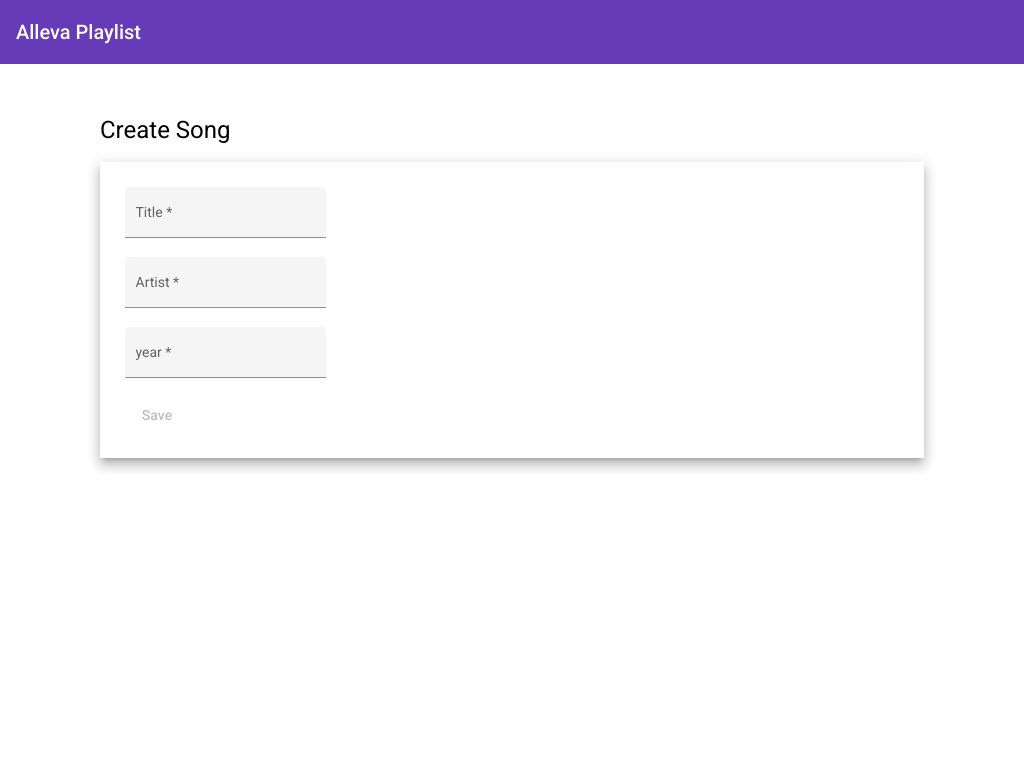
empty spec › Test > Songs Edit Form Create
Expected: the button with id "song-form-save-button" is shown, top-left (125, 397), bottom-right (189, 433)
Expected: the heading "Create Song" is shown, top-left (100, 116), bottom-right (230, 144)
Click the field with id "song-form-title-field" at (226,220), box top-left (136, 212), bottom-right (316, 228)
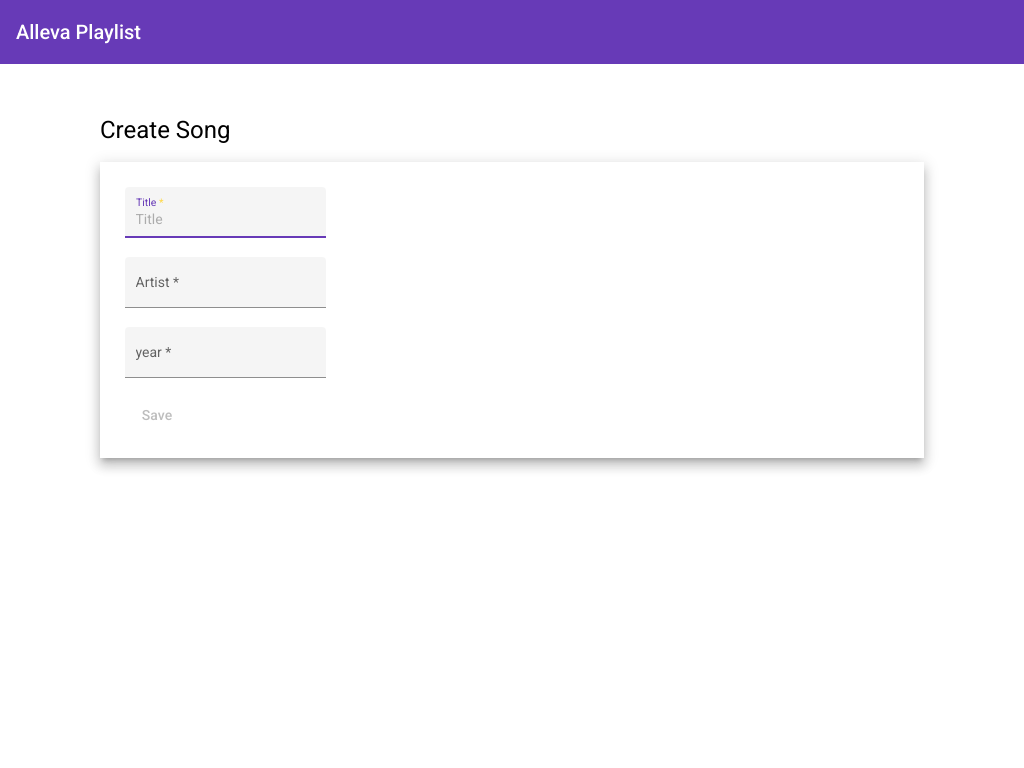
Expected: the button with id "song-form-save-button" is disabled, top-left (125, 397), bottom-right (189, 433)
Click the element showing "Alleva Playlist Create Song Title * Artist * year * Save" at (0,0), box top-left (0, 0), bottom-right (1023, 767)
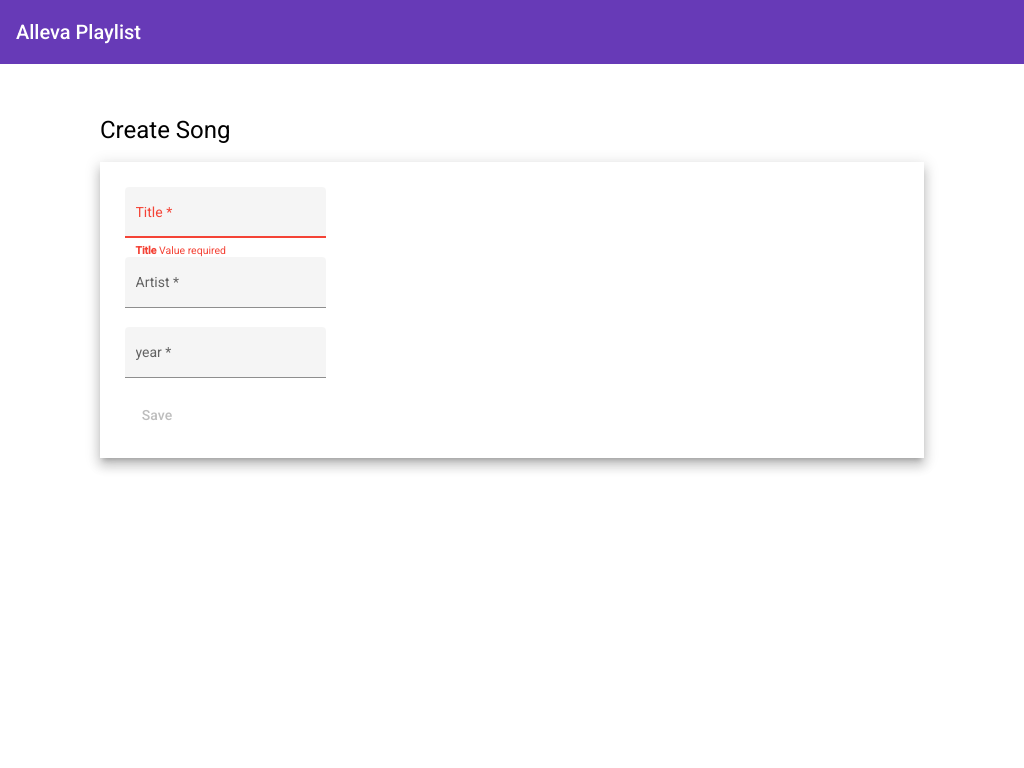
Now the text "Title" is shown, box top-left (136, 245), bottom-right (156, 257)
Type "Geeth" into the field with id "song-form-title-field" at (226,220), box top-left (136, 212), bottom-right (316, 228)
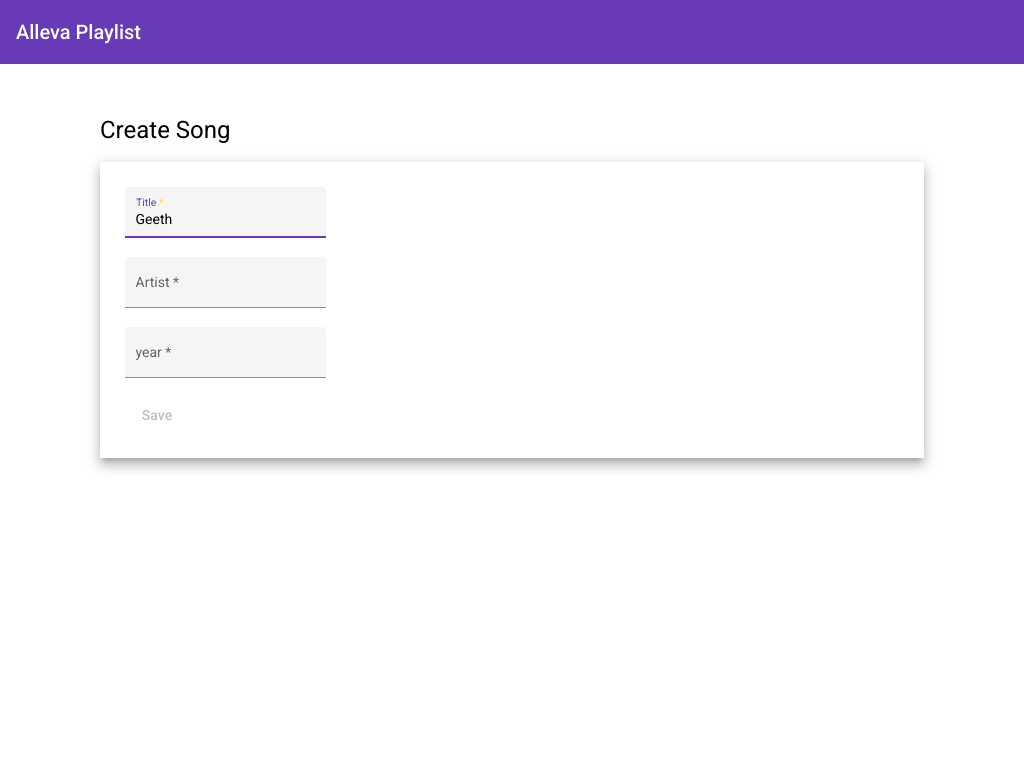
Type "2000" into the field with id "song-form-year-field" at (226,360), box top-left (136, 352), bottom-right (316, 368)
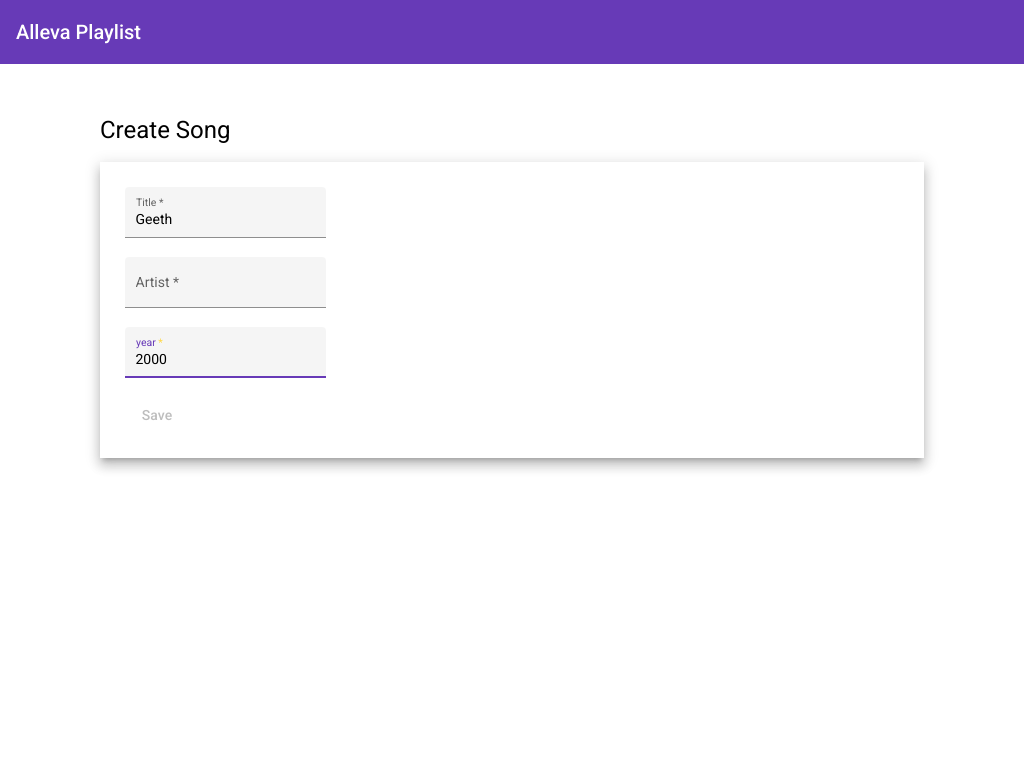
Type "Geeth" into the field with id "song-form-artist-field" at (226,290), box top-left (136, 282), bottom-right (316, 298)
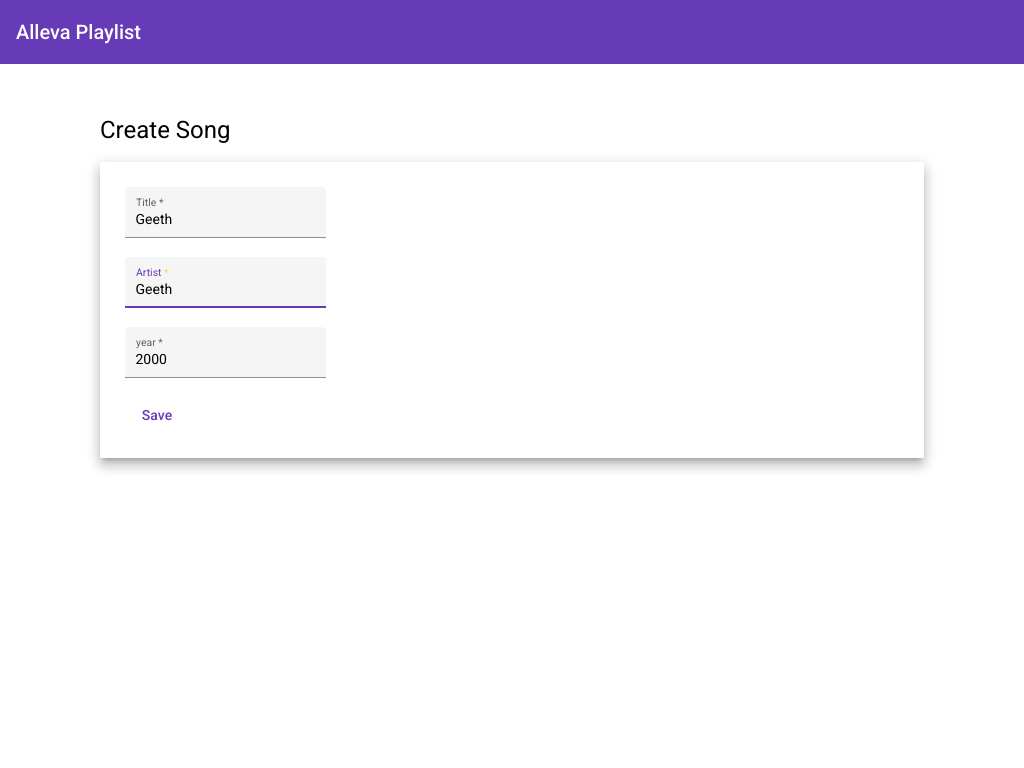
Expected: the element with id "song-form-save-button" is enabled
Click the button with id "song-form-save-button" at (157,415), box top-left (125, 397), bottom-right (189, 433)
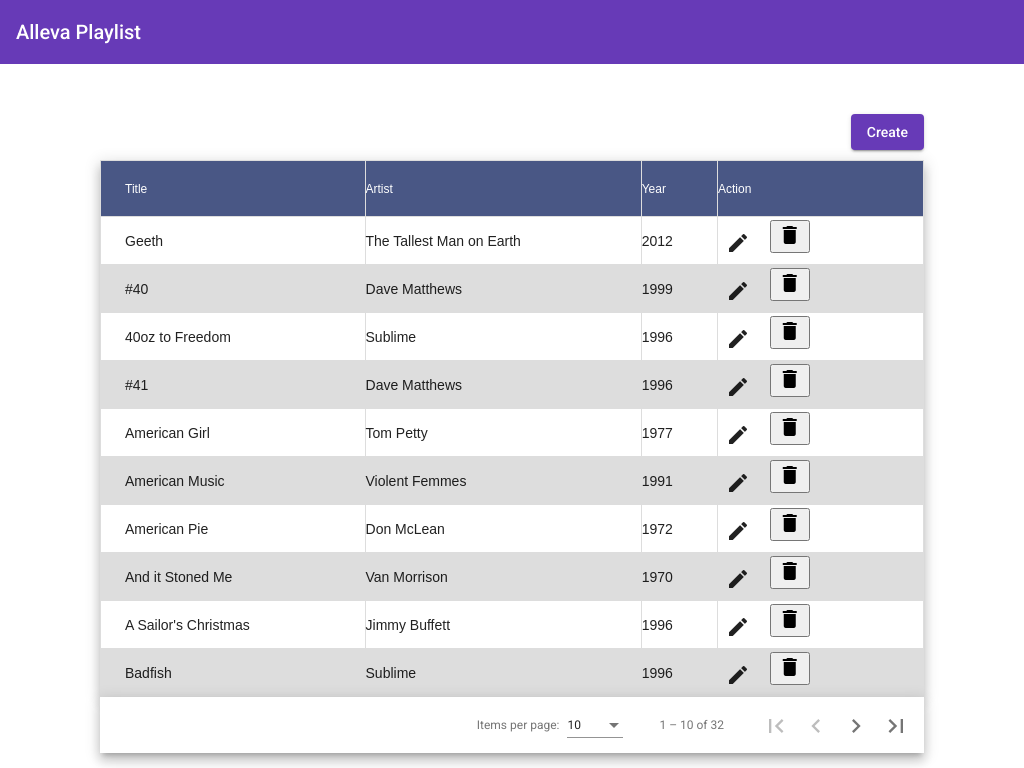
Now the cell with id "song-id-1-title" reads "Geeth", box top-left (101, 217), bottom-right (366, 265)
